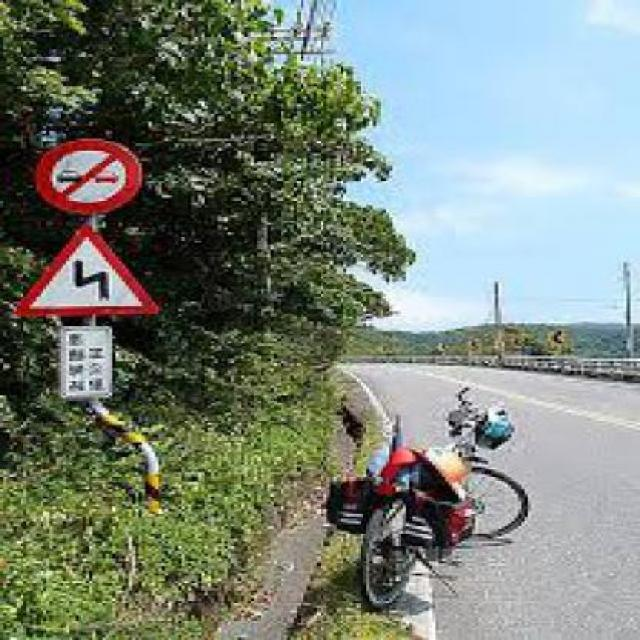traffic_sign: (17, 222, 158, 320)
